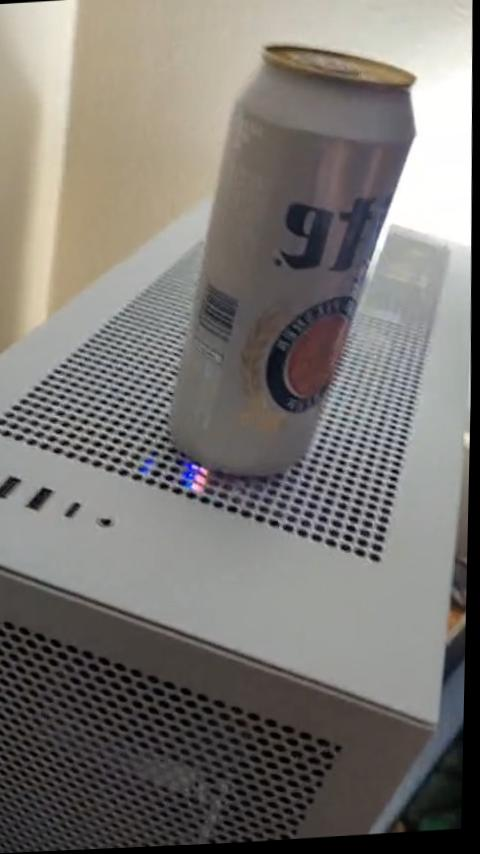metal: (172, 46, 414, 474)
